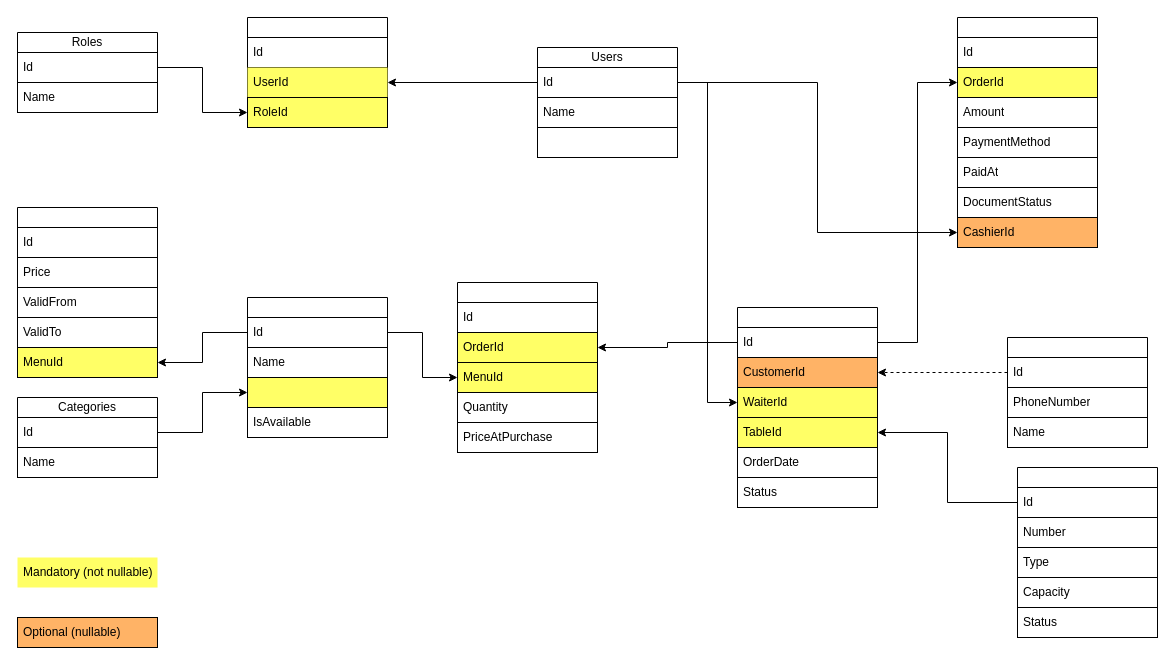
The diagram is 1175 pixels wide and 665 high, and some of its shapes have lost their labels. Here are the shapes that lost their labels. From the top down, the box of each, then its label:
(246, 16, 388, 128): UserRoles
(536, 126, 678, 158): Email
(956, 16, 1098, 248): Billings
(16, 206, 158, 378): Pricings
(246, 296, 388, 438): Menus
(456, 282, 598, 452): OrderDetails
(246, 376, 388, 408): CategoryId
(736, 306, 878, 508): Orders
(1006, 336, 1148, 448): Customers
(1016, 466, 1158, 638): Tables
